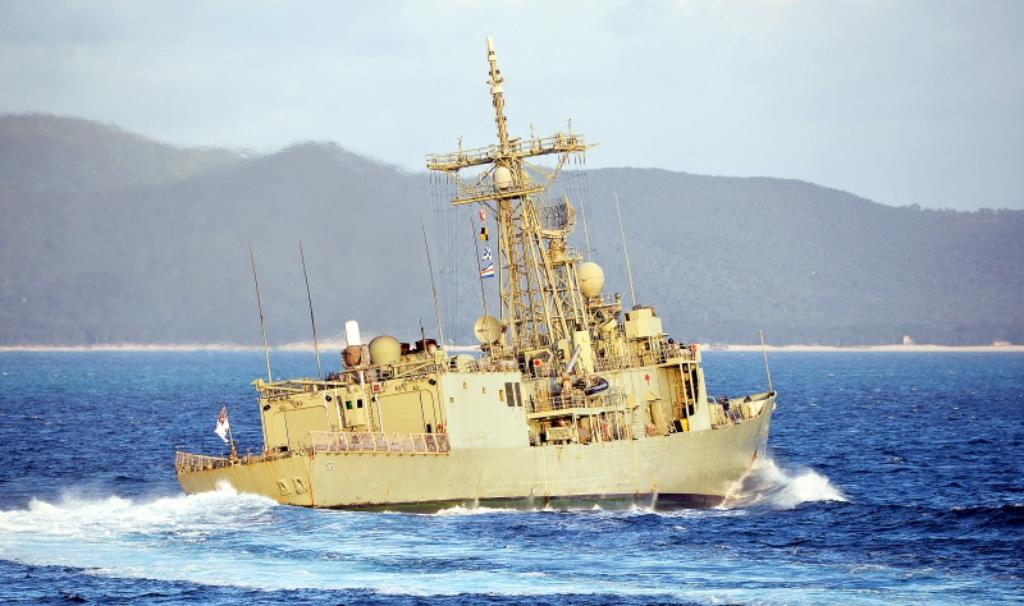Warship: (171, 39, 787, 512)
